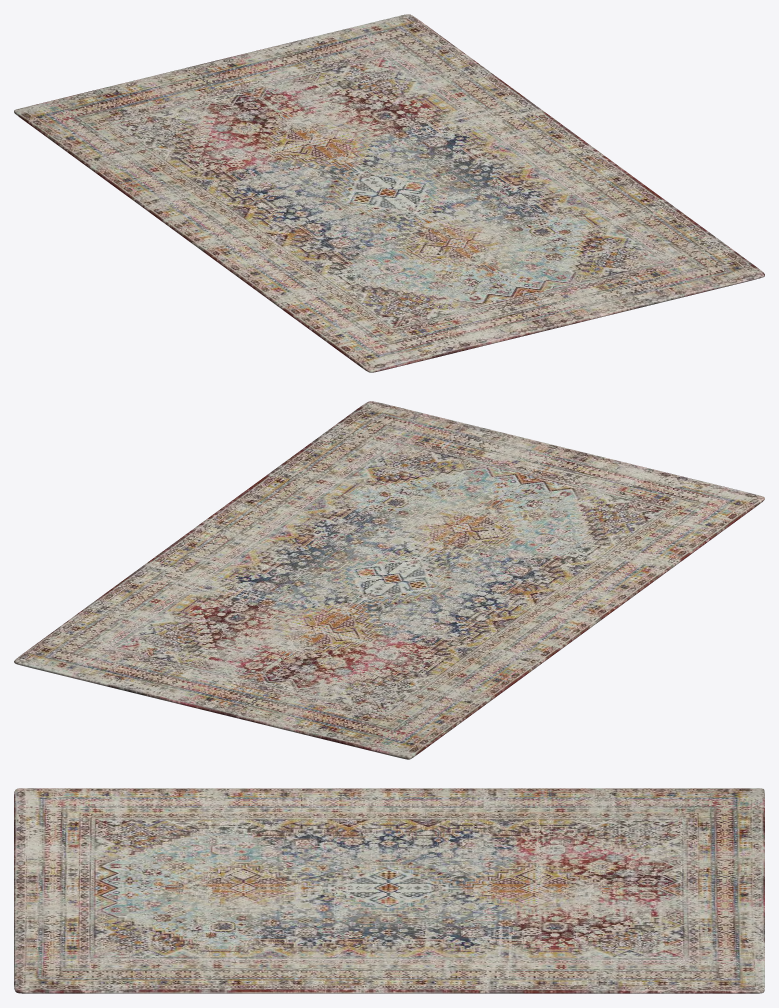
File: rug.glb
3 renders of one model, top to bottom at view 1: azimuth 30°, elevation 25°; view 2: azimuth 150°, elevation 25°; view 3: azimuth 270°, elevation 25°, orthographic. The views are drawn at different scales.
Visible parts, largest first — view 1: Distressed traditional old rug; view 2: Distressed traditional old rug; view 3: Distressed traditional old rug.
Boxes of the visible parts, box(x1,y1,x2,y2) form: Distressed traditional old rug: box(14, 14, 764, 372); Distressed traditional old rug: box(14, 401, 764, 759); Distressed traditional old rug: box(14, 788, 764, 993).
Bounding box in the file's own units: 1.8 × 0.015 × 2.8.
Materials: 1 (1 with a texture image).
